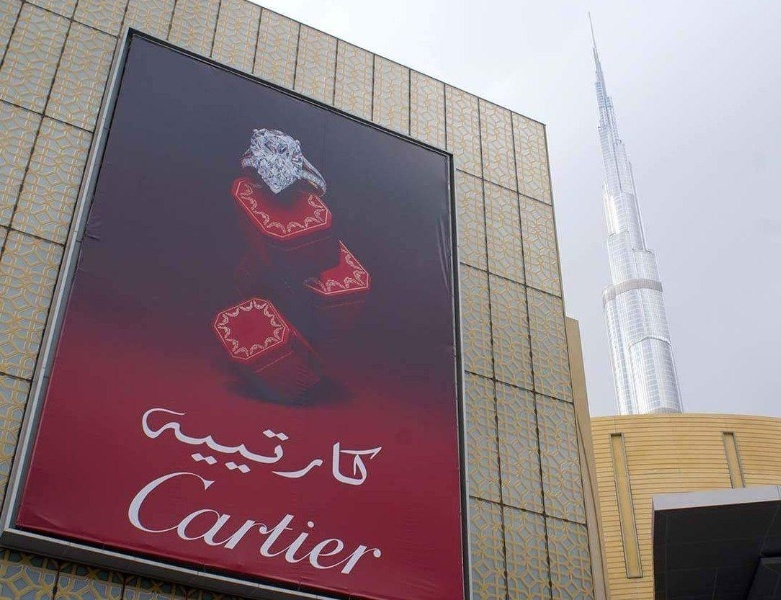text: (145, 459, 160, 582), (161, 459, 176, 582), (177, 459, 192, 582), (193, 459, 208, 582), (209, 459, 224, 582), (225, 459, 240, 582), (241, 459, 256, 582), (257, 459, 272, 582), (273, 459, 288, 582), (289, 459, 304, 582), (305, 459, 320, 582), (321, 459, 336, 582), (337, 459, 352, 582), (353, 459, 368, 582), (369, 459, 384, 582), (145, 405, 160, 507), (161, 405, 176, 507), (177, 405, 192, 507), (193, 405, 208, 507), (209, 405, 224, 507), (225, 405, 240, 507), (241, 405, 256, 507), (257, 405, 272, 507), (273, 405, 288, 507), (289, 405, 304, 507), (305, 405, 320, 507), (321, 405, 336, 507), (337, 405, 352, 507), (353, 405, 368, 507), (369, 405, 384, 507), (136, 459, 144, 582), (385, 459, 390, 582), (142, 405, 144, 507)
